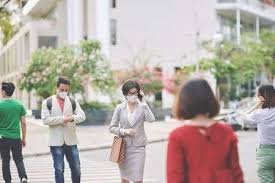mask: (121, 83, 143, 103), (55, 75, 69, 99)
